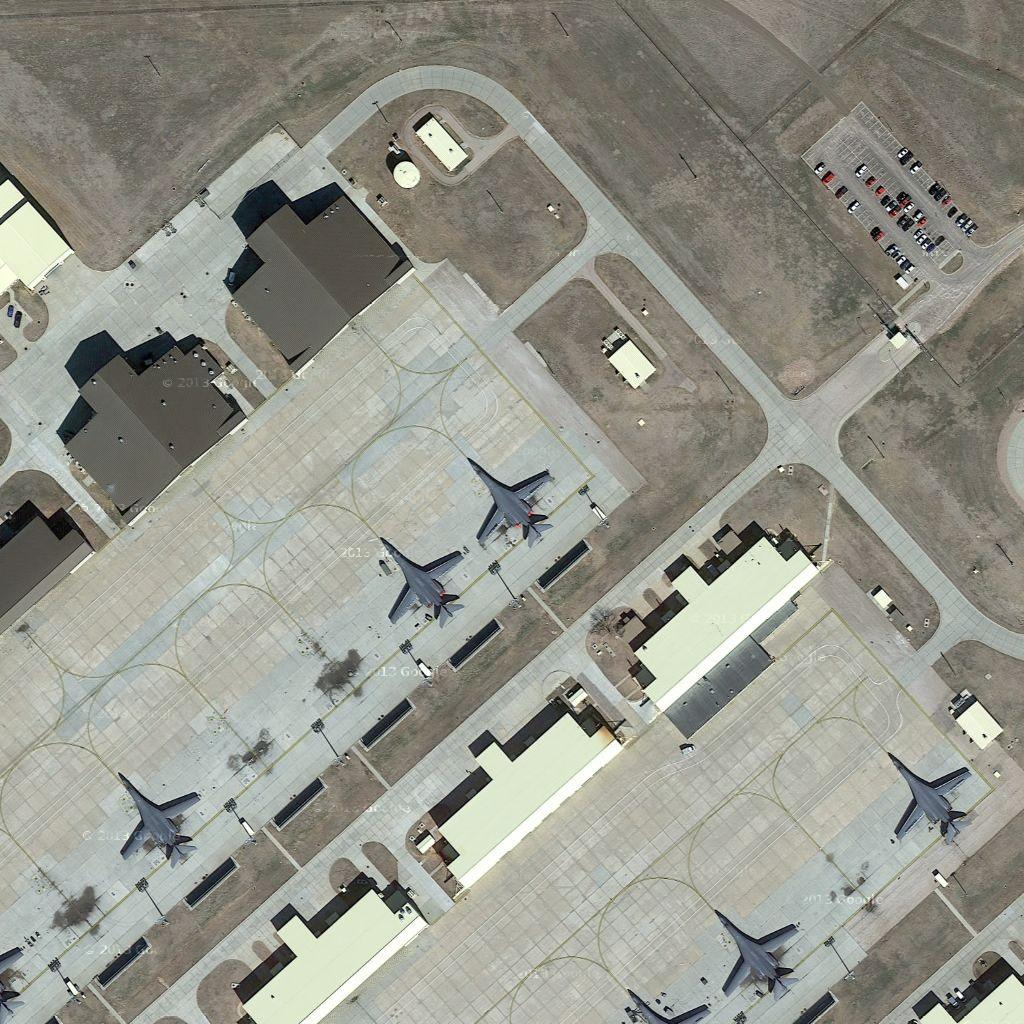B-1B: (707, 900, 799, 998), (463, 452, 557, 545), (884, 747, 973, 844), (371, 534, 463, 625), (112, 770, 199, 865)
